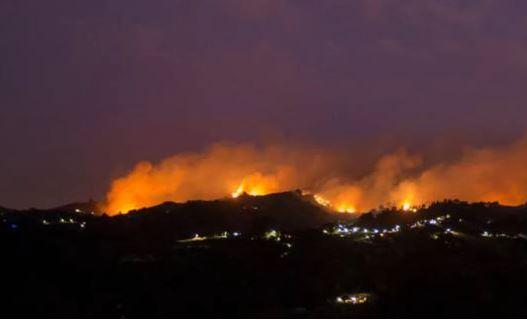fire: (233, 176, 266, 198), (108, 198, 134, 218), (334, 198, 354, 215), (402, 198, 412, 214)
